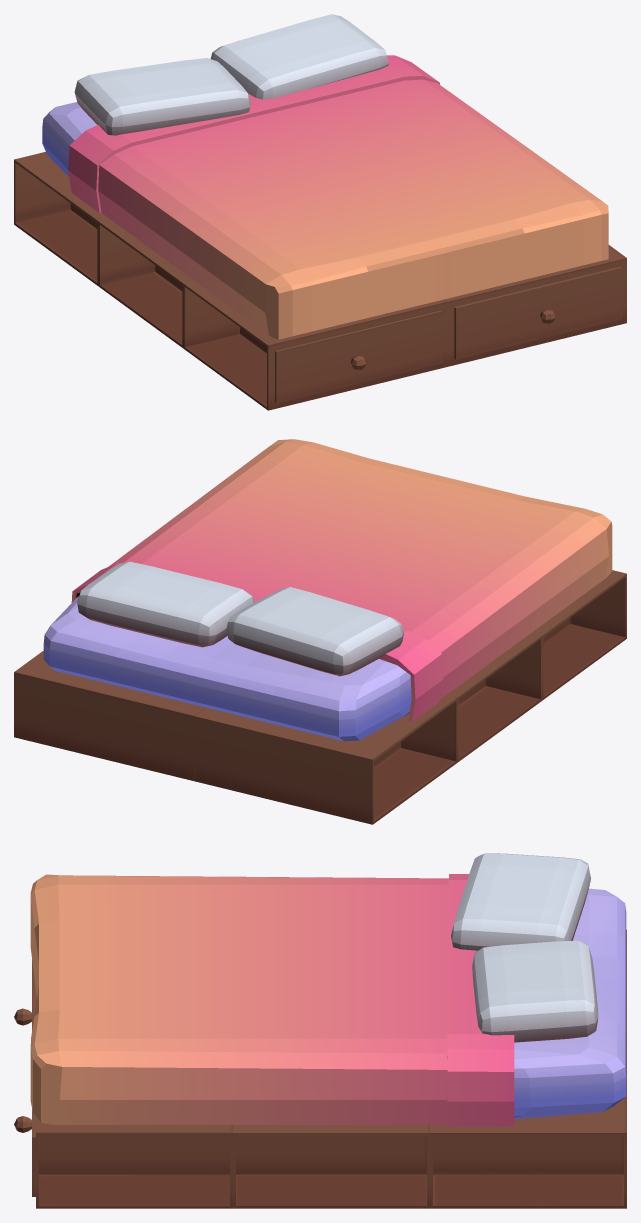
Rendered from bed.gltf.
3 renders of one model, top to bottom at view 1: azimuth 30°, elevation 25°; view 2: azimuth 150°, elevation 25°; view 3: azimuth 270°, elevation 25°, orthographic. The views are drawn at different scales.
Parts seen in each view (by area): view 1: Plane.001, frame, p2, p1, mattress; view 2: Plane.001, frame, mattress, p2, p1; view 3: Plane.001, frame, mattress, p1, p2.
Boxes of the visible parts, x1,y1,x2,y2 form: Plane.001: (68, 55, 608, 339); frame: (14, 152, 626, 410); p2: (74, 58, 250, 135); p1: (210, 14, 388, 99); mattress: (42, 102, 96, 176); Plane.001: (71, 439, 612, 721); frame: (14, 570, 626, 824); mattress: (43, 596, 411, 741); p2: (226, 587, 403, 676); p1: (77, 561, 254, 647); Plane.001: (30, 874, 514, 1126); frame: (14, 929, 626, 1208); mattress: (514, 888, 626, 1119); p1: (472, 940, 598, 1042); p2: (451, 853, 590, 950).
Size of the model in its own units: 1.76 by 0.717 by 2.24.
4 materials, 4 textured.
